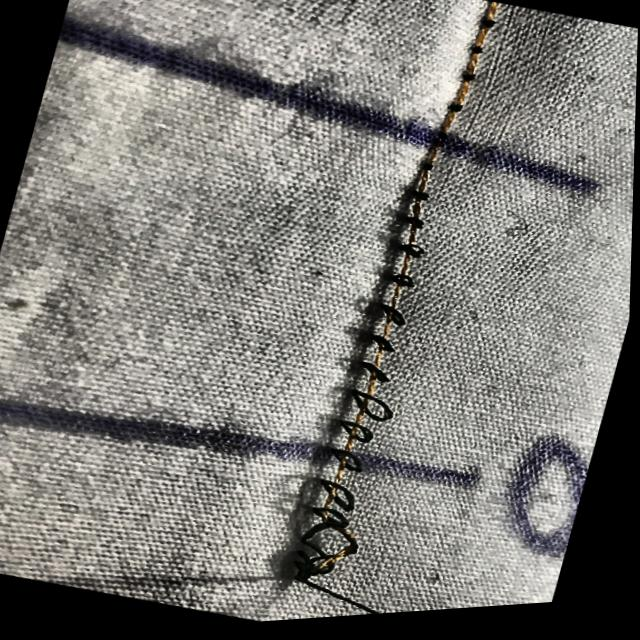Stitch: (235, 487, 519, 627), (300, 372, 431, 468)
